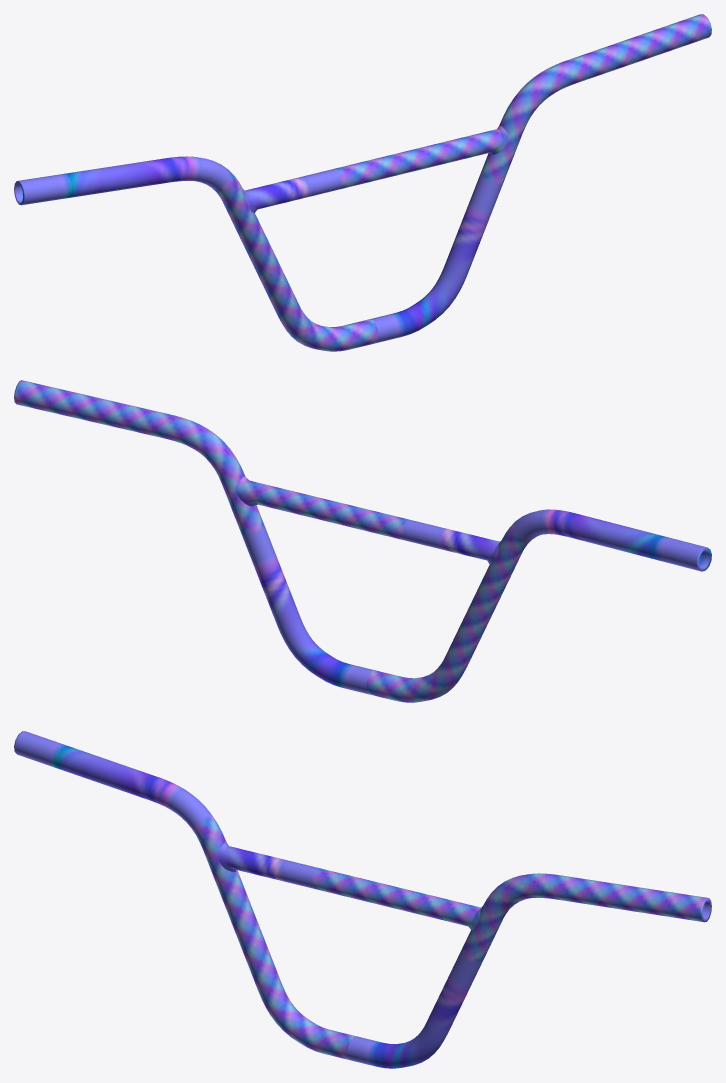
File: BMX_Bars_Fat Bill Co_Hedart.fbx
3 renders of one model, top to bottom at view 1: azimuth 30°, elevation 25°; view 2: azimuth 150°, elevation 25°; view 3: azimuth 330°, elevation 25°, orthographic.
Visible parts, largest first — view 1: BMX_Bars_FatBillCo_Hedart; view 2: BMX_Bars_FatBillCo_Hedart; view 3: BMX_Bars_FatBillCo_Hedart.
Part boxes in pixels (x1,y1,x2,y2): BMX_Bars_FatBillCo_Hedart: (14, 14, 711, 351); BMX_Bars_FatBillCo_Hedart: (14, 380, 711, 702); BMX_Bars_FatBillCo_Hedart: (14, 731, 711, 1068).
Bounding box in the file's own units: 70.9 × 23.31 × 4.08.
1 material, 1 textured.
